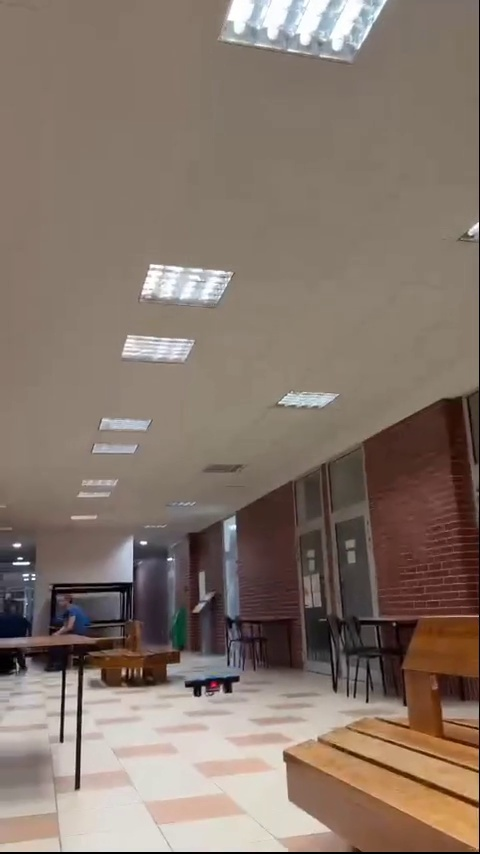drone: (188, 675, 240, 700)
no vest: (51, 590, 91, 639)
